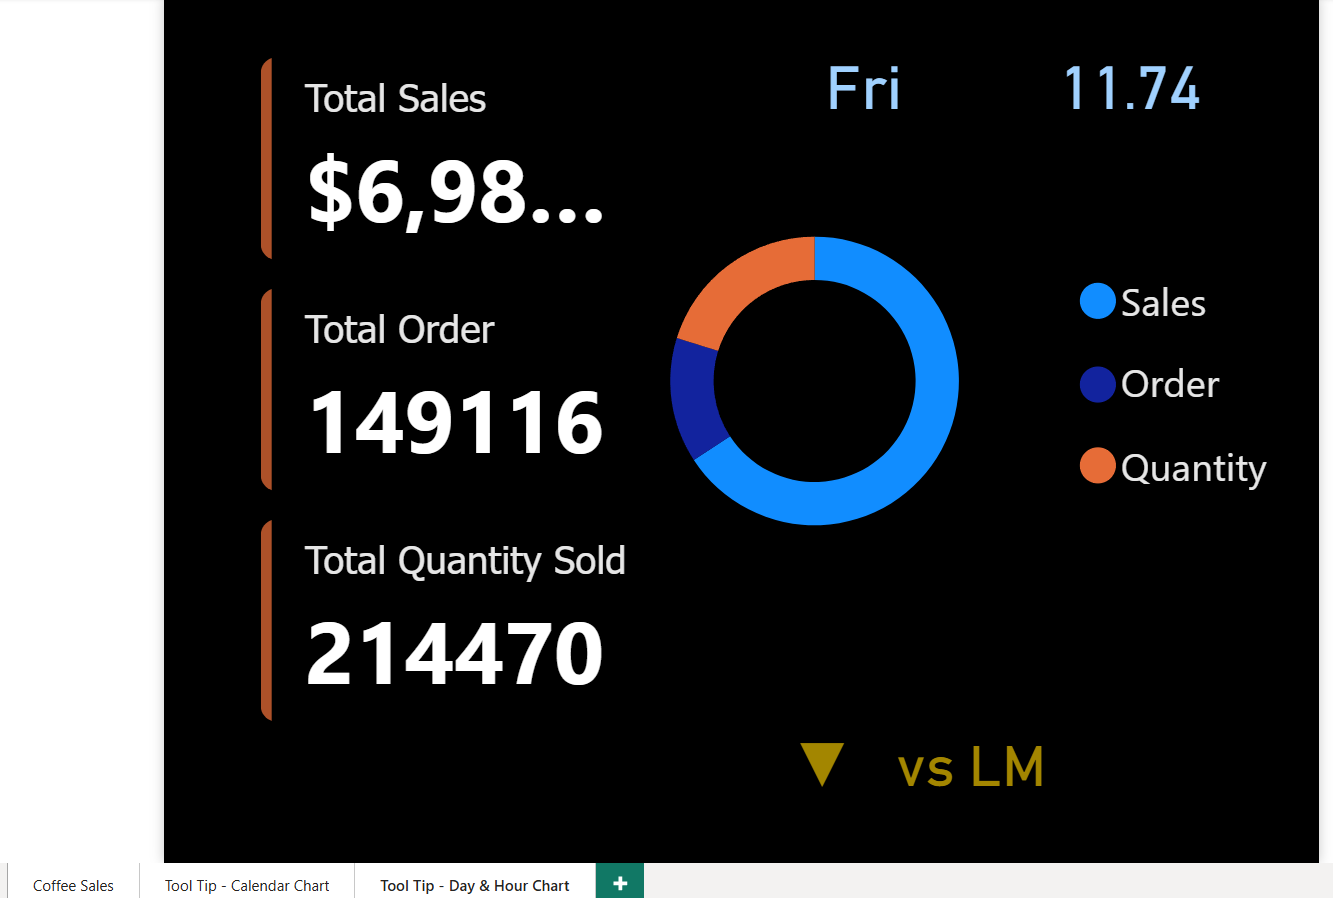

This screenshot's page, from the dashboard's own definition file:
{"tool":"powerbi","page":{"name":"Tool Tip - Day & Hour Chart","canvas":[320,240],"ordinal":2},"visuals":[{"type":"cardVisual","fields":{"Data":["1. DAX_Measure.Total Sales","1. DAX_Measure.Total Order","1. DAX_Measure.Total Quantity Sold"]},"box":[10,0,148,220],"z":0},{"type":"donutChart","fields":{"Y":["1. DAX_Measure.Total Sales","1. DAX_Measure.Total Order","1. DAX_Measure.Total Quantity Sold"]},"box":[102.8,51.7,217.2,110],"z":1000},{"type":"card","fields":{"Values":["Avg(Coffee_Shop_Sales_project.Hour)"]},"box":[227.8,0,80,51.7],"z":2000},{"type":"card","fields":{"Values":["1. DAX_Measure.MoM Growth & Diff Sales"]},"box":[98.3,188.3,221.7,51.7],"z":3000},{"type":"card","fields":{"Values":["Min(Calendar_Tables.Day Name)"]},"box":[154.2,0,80,51.6],"z":4000}]}

Visuals, with their boxes on the page's 320x240 design canvas (x1, y1, x2, y2). These are canvas units, not pixel positions in the 1333x898 screenshot, which may show the page scaled, cropped or inside an application window:
cardVisual - 1. DAX_Measure.Total Sales x 1. DAX_Measure.Total Order: rect(10, 0, 158, 220)
donutChart - 1. DAX_Measure.Total Sales x 1. DAX_Measure.Total Order: rect(103, 52, 320, 162)
card - Avg(Coffee_Shop_Sales_project.Hour): rect(228, 0, 308, 52)
card - 1. DAX_Measure.MoM Growth & Diff Sales: rect(98, 188, 320, 240)
card - Min(Calendar_Tables.Day Name): rect(154, 0, 234, 52)
